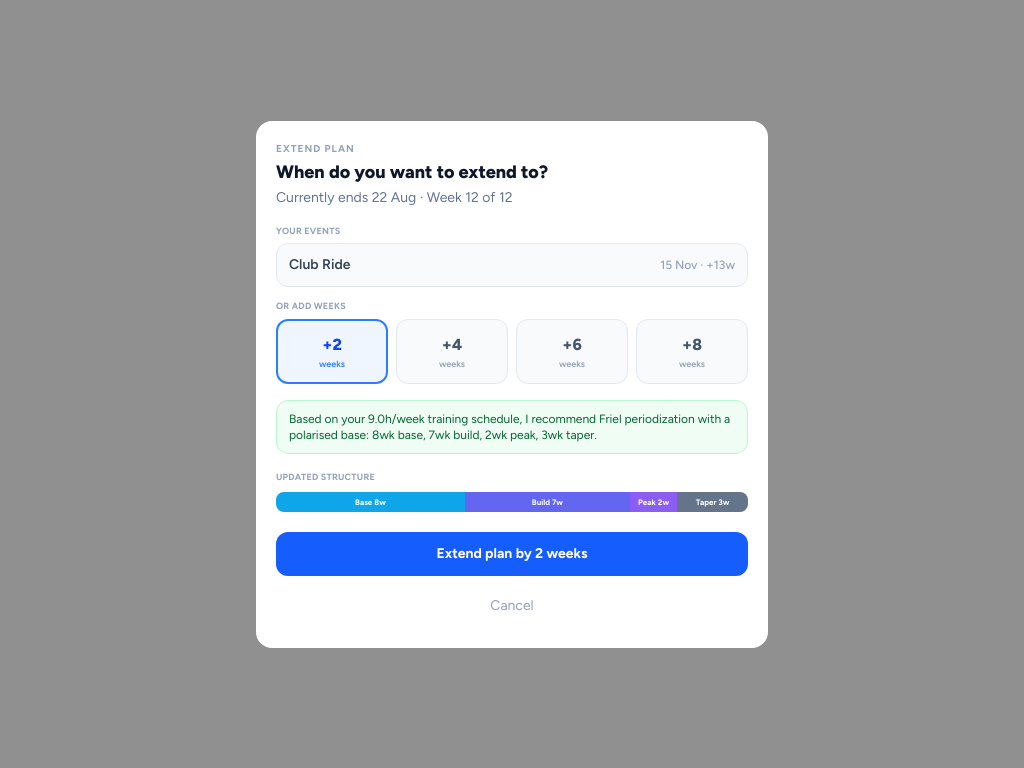
Scenario: ExtendPlanModal — with C-priority events › selecting an event row updates the CTA label
Click the text "Club Ride" at (320,265), box [289,255,350,275]
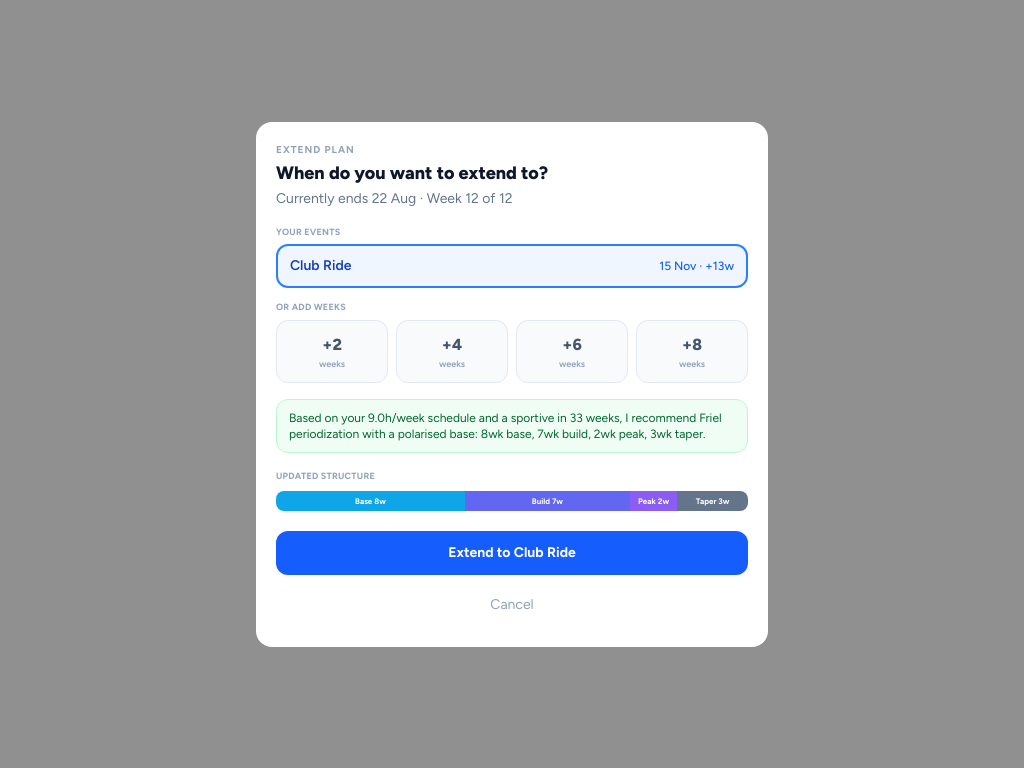
expect the button "Extend to Club Ride" is shown: met, box [276,530,748,574]
